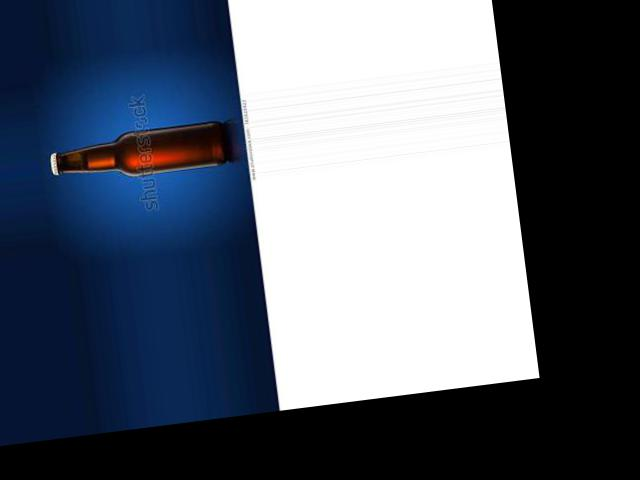beer: (47, 119, 228, 186)
